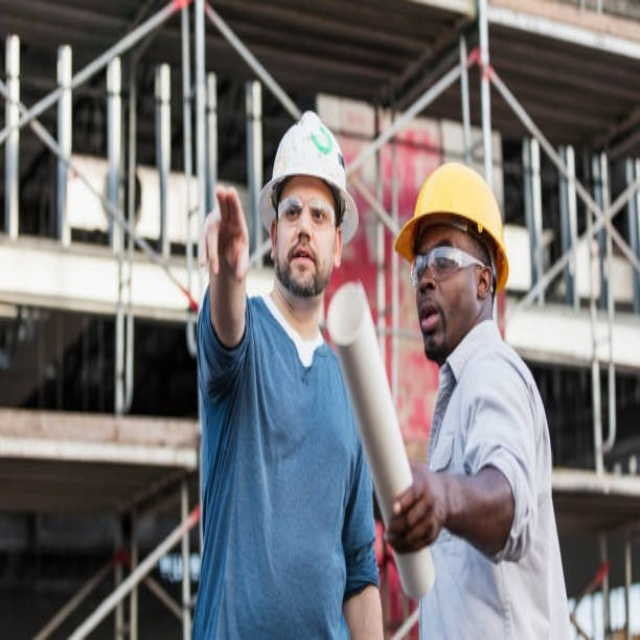Gafas: (410, 246, 491, 291), (275, 195, 339, 231)
Sin_guantes: (193, 182, 253, 290), (383, 461, 445, 553)
Sin_mascara: (415, 291, 442, 345), (285, 240, 316, 284)
